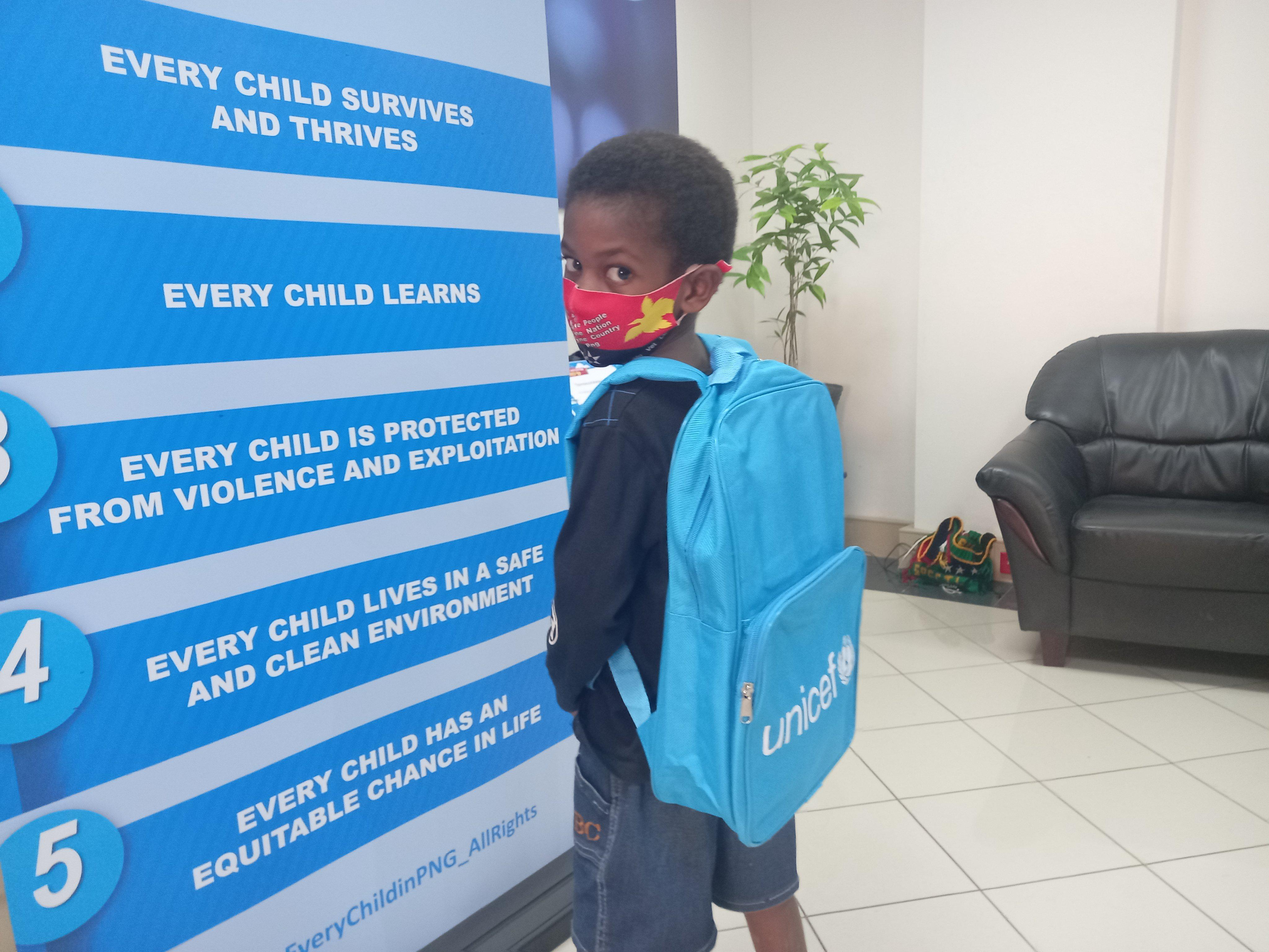OK: (560, 213, 679, 362)
